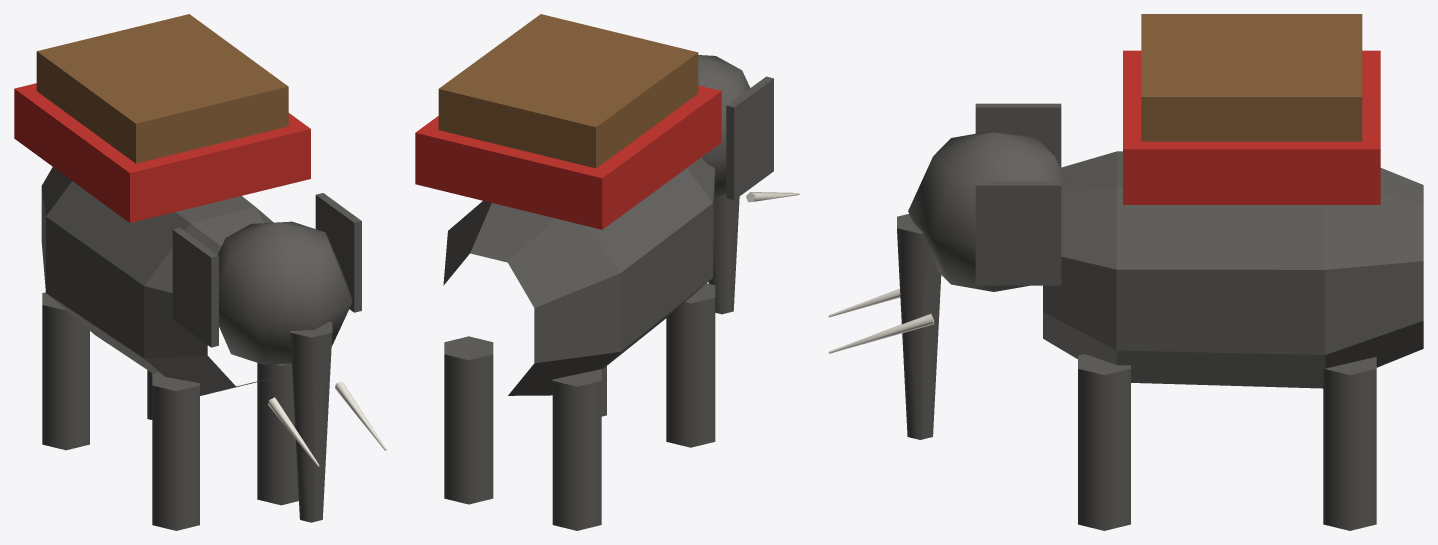
The model's file is unit_mil_war_elephant_a02.glb.
3 views of the same model, side by side, from view 1: azimuth 30°, elevation 25°; view 2: azimuth 150°, elevation 25°; view 3: azimuth 270°, elevation 25° (orthographic). The views are drawn at different scales.
Visible parts, largest first — view 1: body; view 2: body; view 3: body.
Part boxes in pixels (x1,y1,x2,y2): body: (14,14,386,530); body: (415,14,799,530); body: (828,14,1423,530).
Size of what is drawn, in the model's own units: 1.9 by 3.9 by 4.85.
